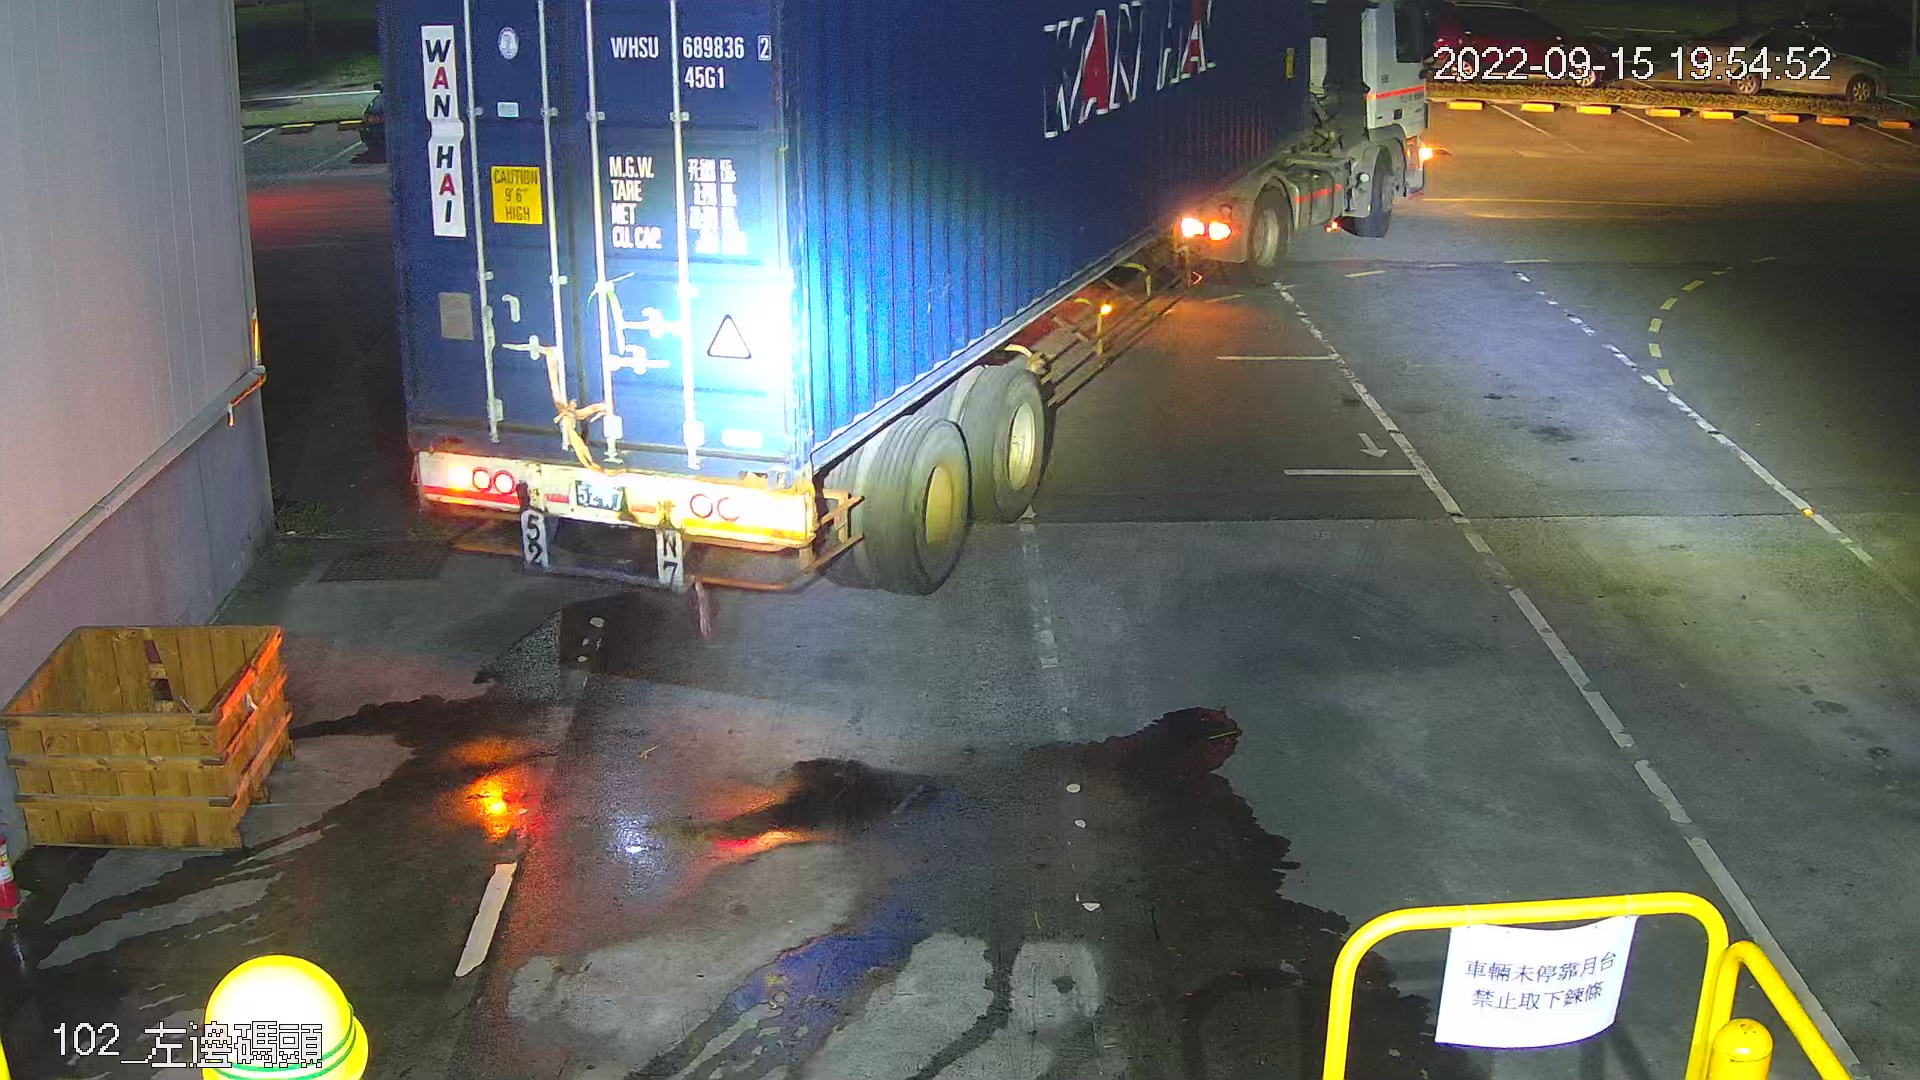container: (600, 26, 778, 98)
